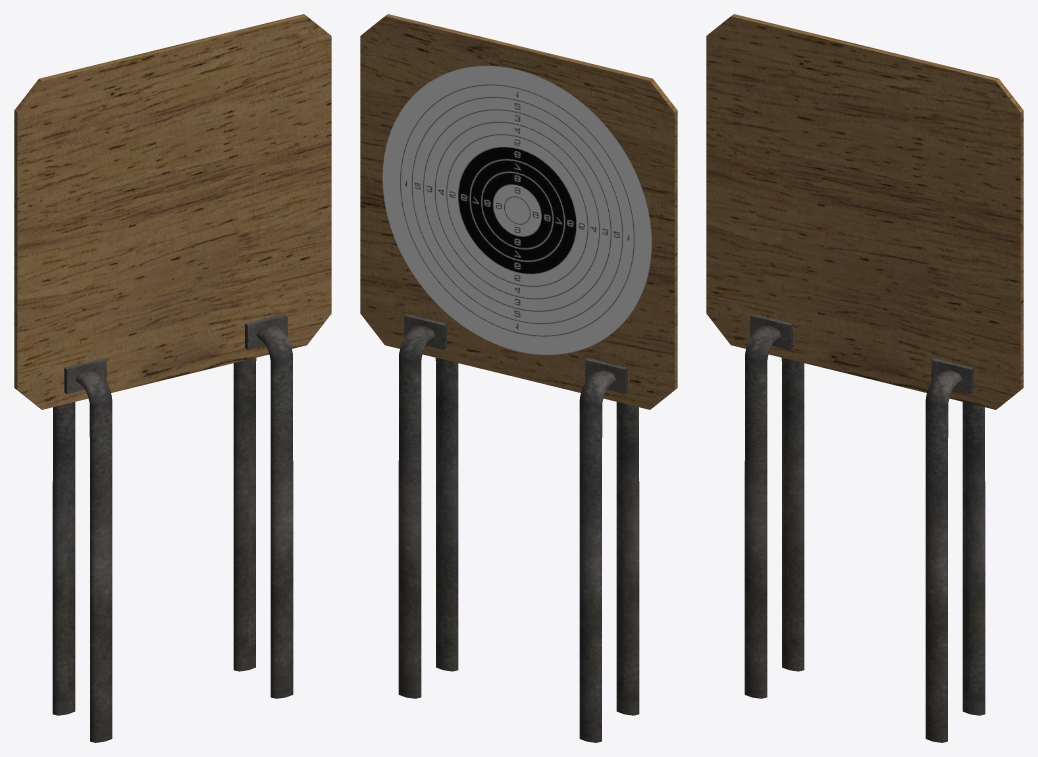
Rendered from targetLowPoly.glb.
3 views of the same model, side by side, from view 1: azimuth 30°, elevation 25°; view 2: azimuth 150°, elevation 25°; view 3: azimuth 330°, elevation 25° (orthographic).
Visible parts, largest first — view 1: LowPoly.003; view 2: LowPoly.003; view 3: LowPoly.003.
Part boxes in pixels (x1=…): LowPoly.003: x1=14, y1=14, x2=331, y2=742; LowPoly.003: x1=360, y1=14, x2=677, y2=742; LowPoly.003: x1=706, y1=14, x2=1023, y2=742.
Size of the model in its own units: 10.73 by 21.38 by 2.65.
Materials: 1 (1 with a texture image).
